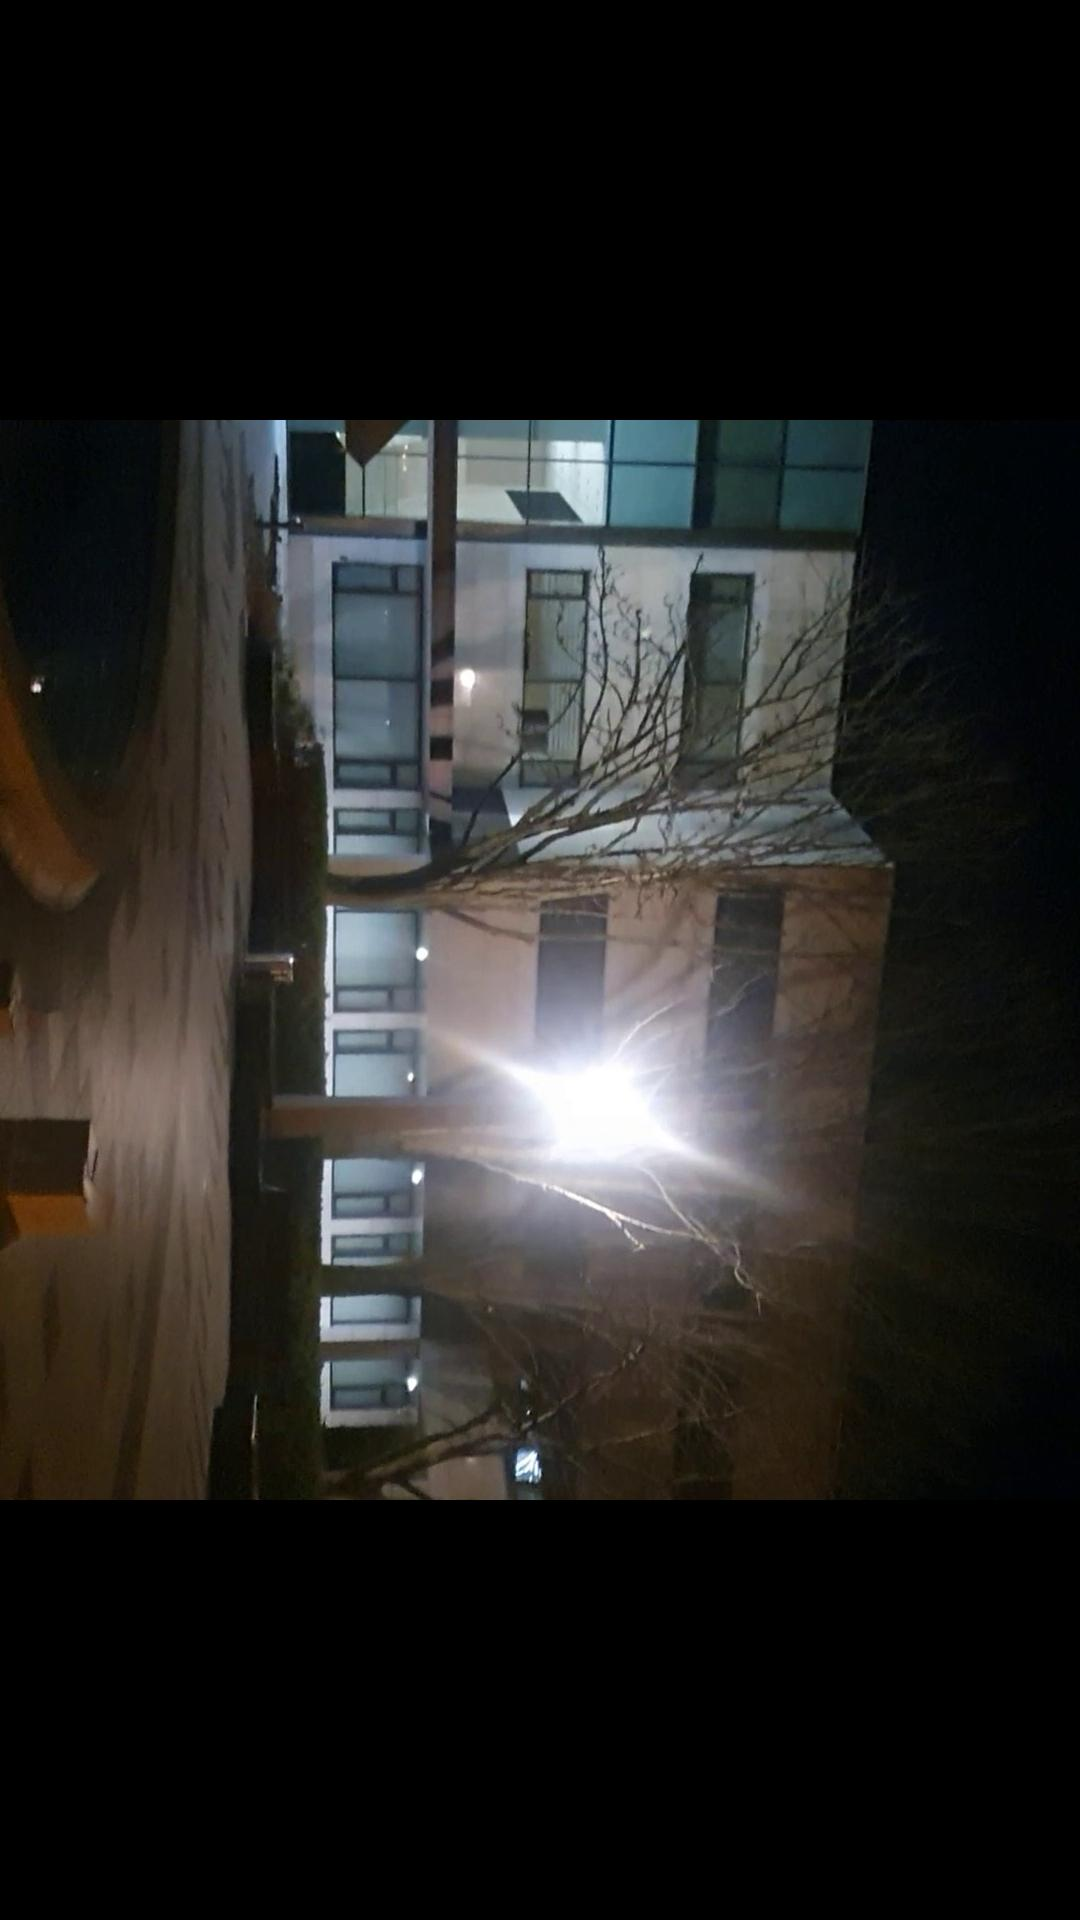Box: (0, 1112, 107, 1262), (0, 961, 26, 1043)
